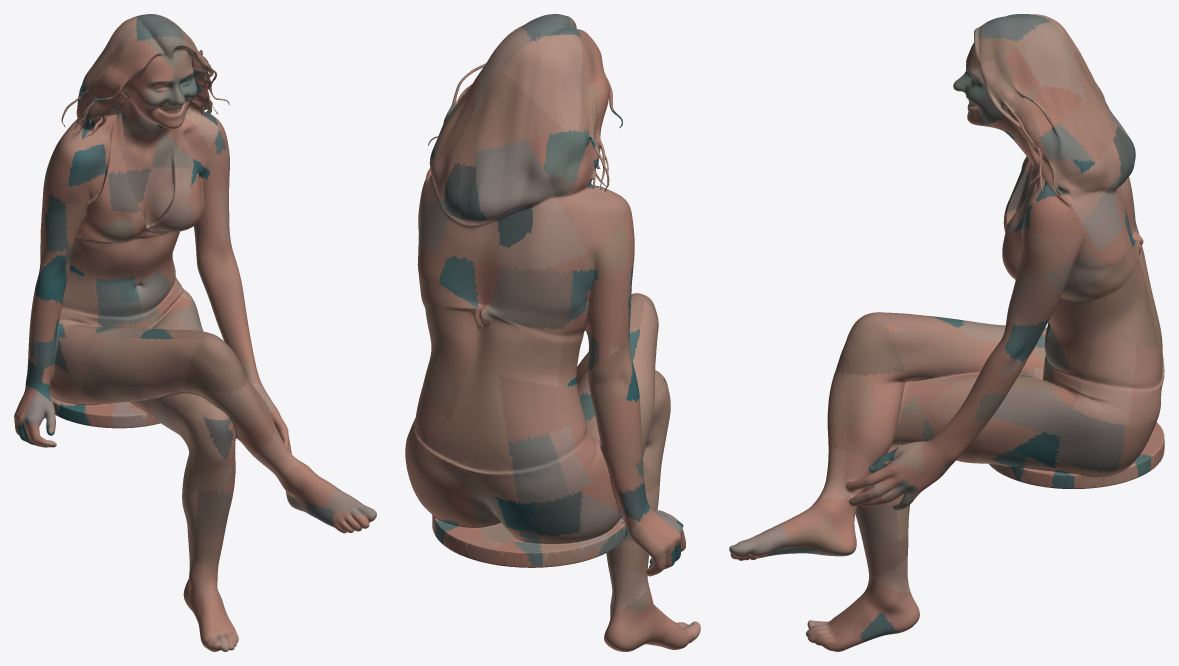
File: BlueHibiscus.fbx
3 renders of one model, left to right at view 1: azimuth 30°, elevation 25°; view 2: azimuth 150°, elevation 25°; view 3: azimuth 270°, elevation 25°, orthographic. The views are drawn at different scales.
Visible parts, largest first — view 1: mesh_0; view 2: mesh_0; view 3: mesh_0.
Part boxes in pixels (bbox=[...]): mesh_0: bbox=[14, 14, 376, 651]; mesh_0: bbox=[405, 14, 700, 651]; mesh_0: bbox=[729, 14, 1164, 651].
Size of the model in its own units: 0.7733 by 1.9 by 1.18.
1 material, 1 textured.
